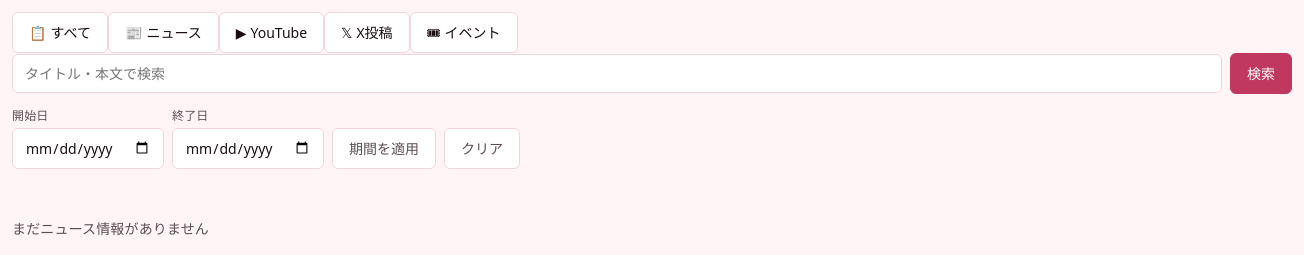
Scenario: NewsFeedList › 日付範囲フィルタで0件のとき「該当するニュースが見つかりません」が表示される
Type "2020-01-01" into the date field labelled "開始日".
click(88, 148); type("2020-01-01")  # box [12,128,164,169]
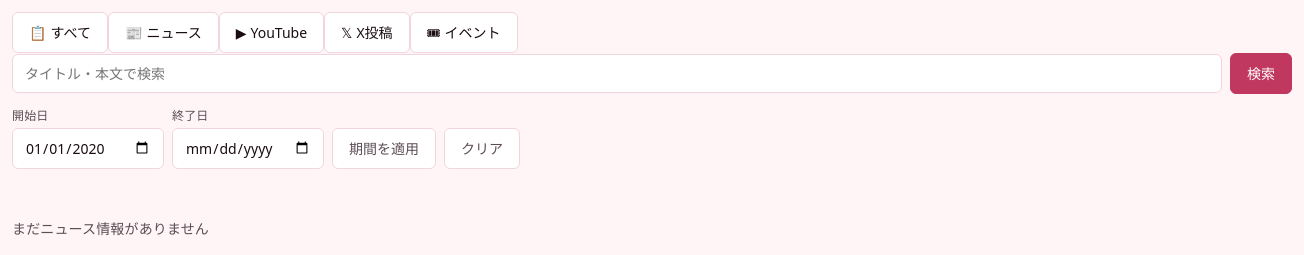
Type "2020-01-31" into the date field labelled "終了日".
click(248, 148); type("2020-01-31")  # box [172,128,324,169]
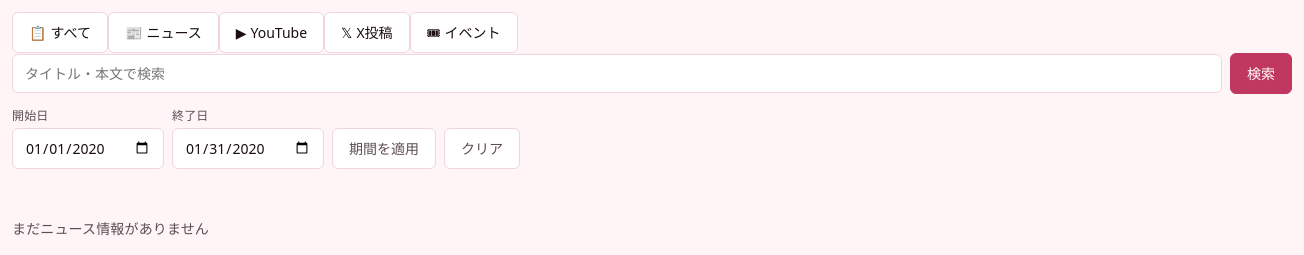
Click the button "期間を適用".
click(384, 148)  # box [332,128,436,169]
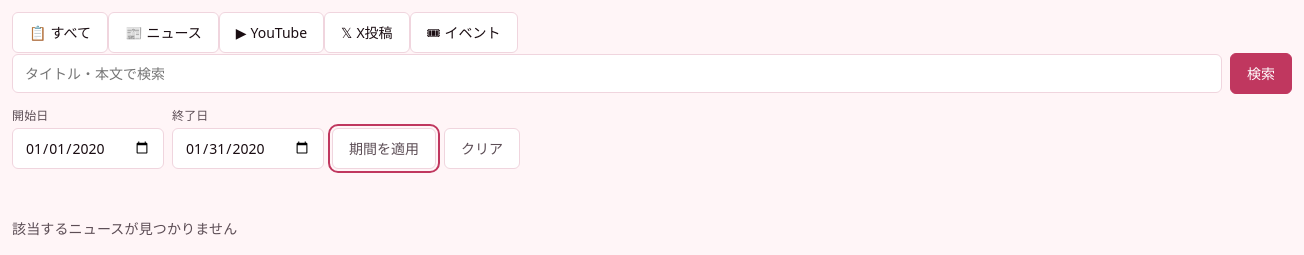
Now the text "該当するニュースが見つかりません" is shown, box [12,219,237,238]
